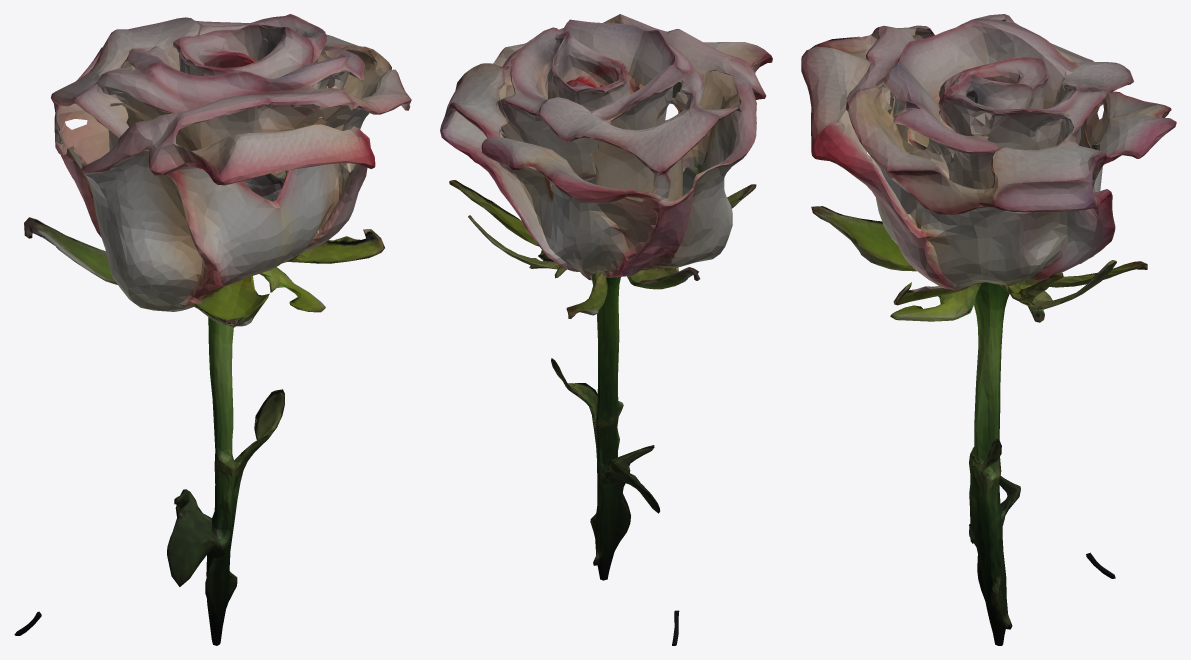
The picture shows the model from 3 angles, left to right: view 1: azimuth 30°, elevation 25°; view 2: azimuth 150°, elevation 25°; view 3: azimuth 270°, elevation 25°; orthographic projection. The views are drawn at different scales.
Visible parts, largest first — view 1: world; view 2: world; view 3: world.
Part boxes in pixels (x1,y1,x2,y2): world: (14,14,411,645); world: (440,14,772,645); world: (801,14,1176,645).
Size of the model in its own units: 0.5483 by 0.9901 by 0.5638.
Materials: 1 (1 with a texture image).
